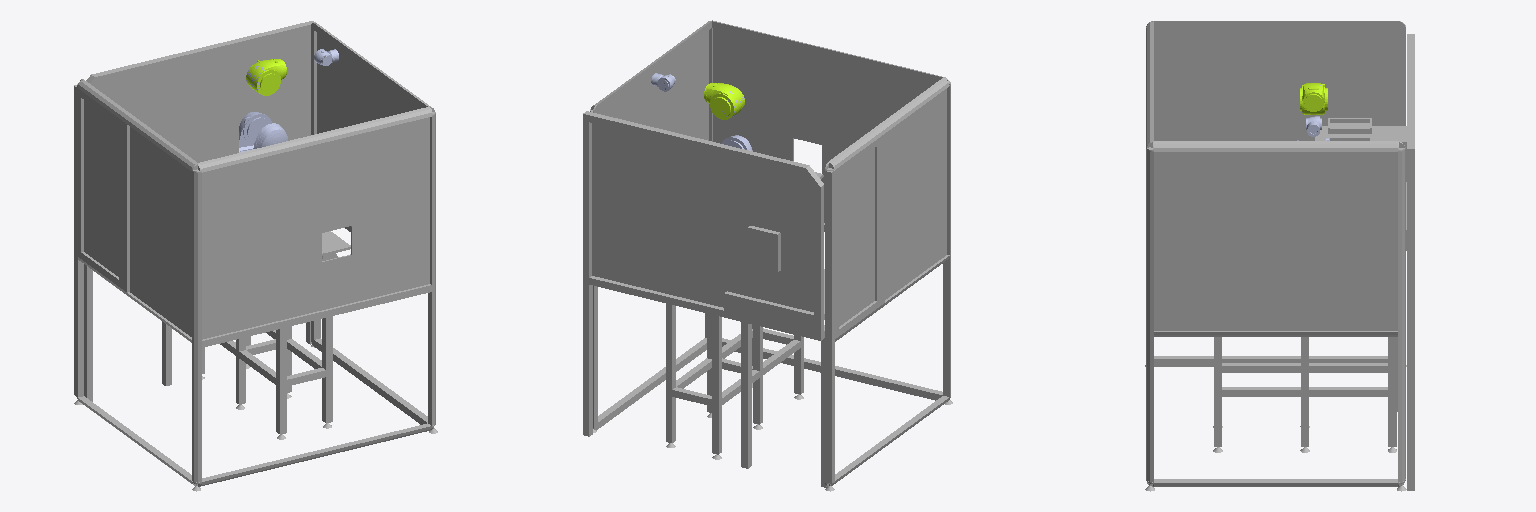
URDF robot description (kuka_urdf):
<?xml version="1.0" encoding="utf-8" ?>
<!-- This URDF was automatically created by SolidWorks to URDF Exporter! Originally created by [author] ([email redacted]) 
     Commit Version: 1.5.1-0-g916b5db  Build Version: 1.5.7152.31018
     For more information, please see http://wiki.ros.org/sw_urdf_exporter -->
<robot name="kuka_urdf">
    <link name="base_footprint">
        <visual>
            <origin rpy="0 0 0" xyz="0 0 0" />
            <geometry>
                <box size="0.001 0.001 0.001" />
            </geometry>
        </visual>
    </link>
    <joint name="base_footprint_joint" type="fixed">
        <origin rpy="0 0 0" xyz="0 0 0" />
        <child link="base_link" />
        <parent link="base_footprint" />
    </joint>
    <link name="base_link">
        
<inertial>
            <origin xyz="0.59314 -0.42692 1.1129" rpy="0 0 0" />
            <mass value="171.31" />
            <inertia ixx="15.428" ixy="-0.76999" ixz="-0.33475" iyy="21.095" iyz="-0.21784" izz="14.683" />
        </inertial>

        <visual>
            <origin xyz="0 0 0" rpy="0 0 0" />
            <geometry>
                <mesh filename="package://kuka_urdf/meshes/base_link.STL" />
            </geometry>
            <material name="">
                <color rgba="0.75294 0.75294 0.75294 1" />
            </material>
        </visual>
        <collision>
            <origin xyz="0 0 0" rpy="0 0 0" />
            <geometry>
                <mesh filename="package://kuka_urdf/meshes/base_link.STL" />
            </geometry>
        </collision>
    </link>
    <link name="Link1">
        
<inertial>
            <origin xyz="0.0079674 0.0020187 0.11572" rpy="0 0 0" />
            <mass value="6.2753" />
            <inertia ixx="0.076205" ixy="9.8219E-06" ixz="-0.0053005" iyy="0.050077" iyz="-0.00051504" izz="0.056269" />
        </inertial>

        <visual>
            <origin xyz="0 0 0" rpy="0 0 0" />
            <geometry>
                <mesh filename="package://kuka_urdf/meshes/Link1.STL" />
            </geometry>
            <material name="">
                <color rgba="0.79216 0.81961 0.93333 1" />
            </material>
        </visual>
        <collision>
            <origin xyz="0 0 0" rpy="0 0 0" />
            <geometry>
                <mesh filename="package://kuka_urdf/meshes/Link1.STL" />
            </geometry>
        </collision>
    </link>
    <joint name="Joint1" type="revolute">
        <origin xyz="0.8275 -0.43219 1.3595" rpy="0 0 0" />
        <parent link="base_link" />
        <child link="Link1" />
        <axis xyz="0 0 1" />
        <limit lower="-3.14" upper="3.14" effort="500" velocity="1" />
    </joint>
    <link name="Link2">
        
<inertial>
            <origin xyz="-0.0052547 -0.0058195 0.13144" rpy="0 0 0" />
            <mass value="7.3626" />
            <inertia ixx="0.15142" ixy="-1.4972E-05" ixz="0.00086898" iyy="0.13564" iyz="0.0016836" izz="0.038488" />
        </inertial>

        <visual>
            <origin xyz="0 0 0" rpy="0 0 0" />
            <geometry>
                <mesh filename="package://kuka_urdf/meshes/Link2.STL" />
            </geometry>
            <material name="">
                <color rgba="0.79216 0.81961 0.93333 1" />
            </material>
        </visual>
        <collision>
            <origin xyz="0 0 0" rpy="0 0 0" />
            <geometry>
                <mesh filename="package://kuka_urdf/meshes/Link2.STL" />
            </geometry>
        </collision>
    </link>
    <joint name="Joint2" type="revolute">
        <origin xyz="0.025 0 0.183" rpy="0 0 0" />
        <parent link="Link1" />
        <child link="Link2" />
        <axis xyz="0 -1 0" />
        <limit lower="-3.14" upper="3.14" effort="500" velocity="1" />
    </joint>
    <link name="Link3">
        
<inertial>
            <origin xyz="0.0158897369187757 0.00377551618976696 0.0103622040607538" rpy="0 0 0" />
            <mass value="2.90698496734874" />
            <inertia ixx="0.00835937630352445" ixy="3.5250457681856E-05" ixz="-0.00140858847686176" iyy="0.0112132449448129" iyz="1.88954255172529E-05" izz="0.0100277382418828" />
        </inertial>

        <visual>
            <origin xyz="0 0 0" rpy="0 0 0" />
            <geometry>
                <mesh filename="package://kuka_urdf/meshes/Link3.STL" />
            </geometry>
            <material name="">
                <color rgba="0.8 1 0.2 1" />
            </material>
        </visual>
        <collision>
            <origin xyz="0 0 0" rpy="0 0 0" />
            <geometry>
                <mesh filename="package://kuka_urdf/meshes/Link3.STL" />
            </geometry>
        </collision>
    </link>
    <joint name="Joint3" type="revolute">
        <origin xyz="0 0 0.315" rpy="0 0 0" />
        <parent link="Link2" />
        <child link="Link3" />
        <axis xyz="0 -1 0" />
        <limit lower="-3.14" upper="3.14" effort="500" velocity="1" />
    </joint>
    <link name="Link4">
        
<inertial>
            <origin xyz="0.123981724214701 0.0034688211324434 0.000289159358459745" rpy="0 0 0" />
            <mass value="2.75654210425904" />
            <inertia ixx="0.00584711964625554" ixy="-0.000156323136874248" ixz="5.19522467907723E-06" iyy="0.0156113113263976" iyz="1.44373593566699E-05" izz="0.0172713088405886" />
        </inertial>

        <visual>
            <origin xyz="0 0 0" rpy="0 0 0" />
            <geometry>
                <mesh filename="package://kuka_urdf/meshes/Link4.STL" />
            </geometry>
            <material name="">
                <color rgba="0.792156862745098 0.819607843137255 0.933333333333333 1" />
            </material>
        </visual>
        <collision>
            <origin xyz="0 0 0" rpy="0 0 0" />
            <geometry>
                <mesh filename="package://kuka_urdf/meshes/Link4.STL" />
            </geometry>
        </collision>
    </link>
    <joint name="Joint4" type="revolute">
        <origin xyz="0.10695 0.003 0.035" rpy="0 0 0" />
        <parent link="Link3" />
        <child link="Link4" />
        <axis xyz="-1 0 0" />
        <limit lower="-3.14" upper="3.14" effort="500" velocity="1" />
    </joint>
    <link name="Link5">
        
<inertial>
            <origin xyz="0.0157891702201667 0.00191367544264814 -3.03958143459404E-05" rpy="0 0 0" />
            <mass value="0.442067197041372" />
            <inertia ixx="0.000318420757784039" ixy="1.663144203727E-05" ixz="3.2063967174793E-07" iyy="0.000528480030475778" iyz="3.23079721639523E-07" izz="0.000562282896446415" />
        </inertial>

        <visual>
            <origin xyz="0 0 0" rpy="0 0 0" />
            <geometry>
                <mesh filename="package://kuka_urdf/meshes/Link5.STL" />
            </geometry>
            <material name="">
                <color rgba="0.792156862745098 0.819607843137255 0.933333333333333 1" />
            </material>
        </visual>
        <collision>
            <origin xyz="0 0 0" rpy="0 0 0" />
            <geometry>
                <mesh filename="package://kuka_urdf/meshes/Link5.STL" />
            </geometry>
        </collision>
    </link>
    <joint name="Joint5" type="revolute">
        <origin xyz="0.25805 0 0" rpy="0 0 0" />
        <parent link="Link4" />
        <child link="Link5" />
        <axis xyz="0 1 0" />
        <limit lower="-3.14" upper="3.14" effort="500" velocity="1" />
    </joint>
    <link name="Link6">
        
<inertial>
            <origin xyz="0.005980331956146 3.33066907387547E-16 4.3140731314173E-05" rpy="0 0 0" />
            <mass value="0.0139949492210214" />
            <inertia ixx="3.02502810414478E-06" ixy="-3.7277595740986E-21" ixz="-8.56055866655071E-10" iyy="1.71731248188302E-06" iyz="1.43466354682744E-22" izz="1.70788961196181E-06" />
        </inertial>

        <visual>
            <origin xyz="0 0 0" rpy="0 0 0" />
            <geometry>
                <mesh filename="package://kuka_urdf/meshes/Link6.STL" />
            </geometry>
            <material name="">
                <color rgba="0.6 0.6 0.6 1" />
            </material>
        </visual>
        <collision>
            <origin xyz="0 0 0" rpy="0 0 0" />
            <geometry>
                <mesh filename="package://kuka_urdf/meshes/Link6.STL" />
            </geometry>
        </collision>
    </link>
    <joint name="Joint6" type="revolute">
        <origin xyz="0.0665 0 0" rpy="0 0 0" />
        <parent link="Link5" />
        <child link="Link6" />
        <axis xyz="1 0 0" />
        <limit lower="-3.14" upper="3.14" effort="500" velocity="1" />
    </joint>
    
<transmission name="trans_Joint1">
        <type>transmission_interface/SimpleTransmission</type>
        <joint name="Joint1">
            <hardwareInterface>hardware_interface/EffortJointInterface</hardwareInterface>
        </joint>
        <actuator name="Joint1_motor">
            <hardwareInterface>hardware_interface/EffortJointInterface</hardwareInterface>
            <mechanicalReduction>1</mechanicalReduction>
        </actuator>
    </transmission>
    <transmission name="trans_Joint2">
        <type>transmission_interface/SimpleTransmission</type>
        <joint name="Joint2">
            <hardwareInterface>hardware_interface/EffortJointInterface</hardwareInterface>
        </joint>
        <actuator name="Joint2_motor">
            <hardwareInterface>hardware_interface/EffortJointInterface</hardwareInterface>
            <mechanicalReduction>1</mechanicalReduction>
        </actuator>
    </transmission>
    <transmission name="trans_Joint3">
        <type>transmission_interface/SimpleTransmission</type>
        <joint name="Joint3">
            <hardwareInterface>hardware_interface/EffortJointInterface</hardwareInterface>
        </joint>
        <actuator name="Joint3_motor">
            <hardwareInterface>hardware_interface/EffortJointInterface</hardwareInterface>
            <mechanicalReduction>1</mechanicalReduction>
        </actuator>
    </transmission>
    <transmission name="trans_Joint4">
        <type>transmission_interface/SimpleTransmission</type>
        <joint name="Joint4">
            <hardwareInterface>hardware_interface/EffortJointInterface</hardwareInterface>
        </joint>
        <actuator name="Joint4_motor">
            <hardwareInterface>hardware_interface/EffortJointInterface</hardwareInterface>
            <mechanicalReduction>1</mechanicalReduction>
        </actuator>
    </transmission>
    <transmission name="trans_Joint5">
        <type>transmission_interface/SimpleTransmission</type>
        <joint name="Joint5">
            <hardwareInterface>hardware_interface/EffortJointInterface</hardwareInterface>
        </joint>
        <actuator name="Joint5_motor">
            <hardwareInterface>hardware_interface/EffortJointInterface</hardwareInterface>
            <mechanicalReduction>1</mechanicalReduction>
        </actuator>
    </transmission>
    <transmission name="trans_Joint6">
        <type>transmission_interface/SimpleTransmission</type>
        <joint name="Joint6">
            <hardwareInterface>hardware_interface/EffortJointInterface</hardwareInterface>
        </joint>
        <actuator name="Joint6_motor">
            <hardwareInterface>hardware_interface/EffortJointInterface</hardwareInterface>
            <mechanicalReduction>1</mechanicalReduction>
        </actuator>
    </transmission>
    <gazebo>
        <plugin name="gazebo_ros_control" filename="libgazebo_ros_control.so">
            <robotNamespace>/</robotNamespace>
        </plugin>
    </gazebo>
</robot>

--- What the picture shows (computed from the rendered views, not written in the file) ---
The picture shows the robot from 3 angles, left to right: view 1: azimuth 30°, elevation 25°; view 2: azimuth 150°, elevation 25°; view 3: azimuth 270°, elevation 25°; orthographic projection.
Robot: kuka_urdf — 8 links, 7 joints (6 revolute, 1 fixed); root link base_footprint; default pose: every joint at zero.
Links seen in each view (by area): view 1: base_link, Link2, Link3; view 2: base_link, Link3; view 3: base_link, Link3.
Link boxes in pixels (left/top/right/bottom): base_link: left=74, top=21, right=437, bottom=491; Link2: left=239, top=112, right=287, bottom=152; Link3: left=246, top=59, right=286, bottom=95; base_link: left=583, top=20, right=952, bottom=491; Link3: left=704, top=83, right=744, bottom=119; base_link: left=1145, top=21, right=1414, bottom=491; Link3: left=1300, top=83, right=1327, bottom=114.
Size in the robot's own frame: 1.49 by 1.33 by 1.95 metres.
Meshes: 7 distinct files referenced, 7 mesh visuals loaded (7 binary STL).